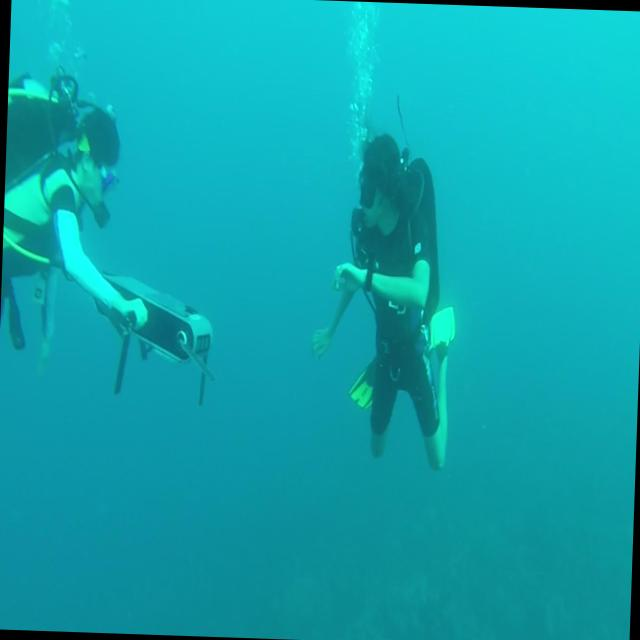human: (307, 128, 462, 470), (0, 86, 157, 367)
